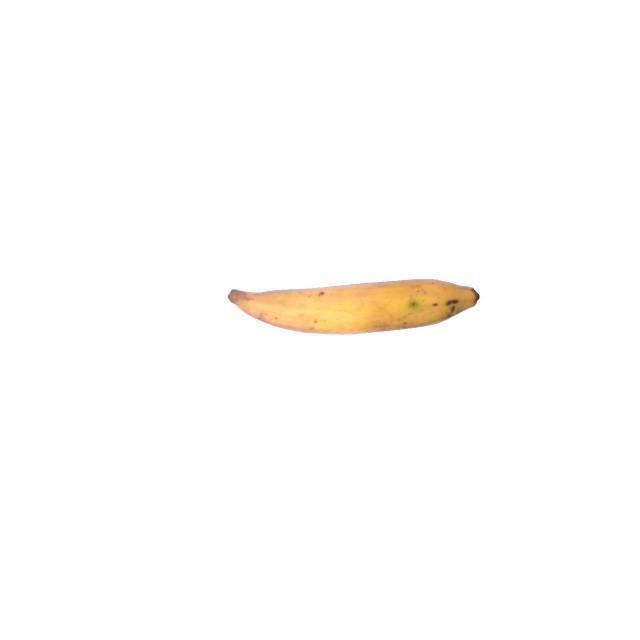Banana: (224, 276, 483, 338)
